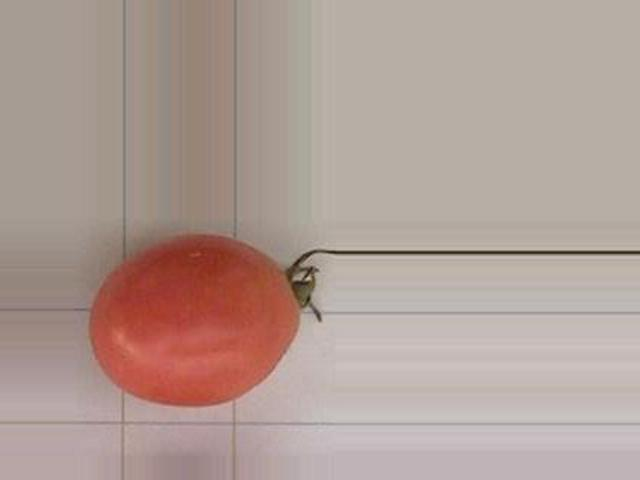tomato: (88, 234, 299, 406)
